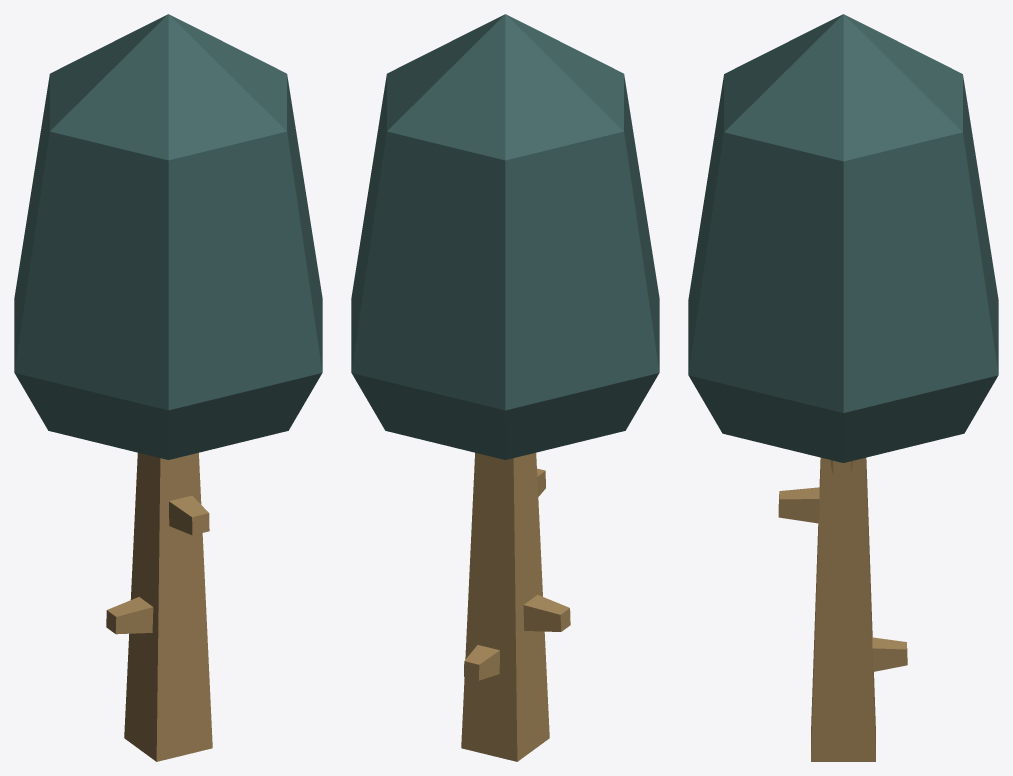
Rendered from naturePack_065.obj.
3 renders of one model, left to right at view 1: azimuth 30°, elevation 25°; view 2: azimuth 150°, elevation 25°; view 3: azimuth 270°, elevation 25°, orthographic.
Parts seen in each view (by area): view 1: Mesh1_Large_Oak_Dark_Model; view 2: Mesh1_Large_Oak_Dark_Model; view 3: Mesh1_Large_Oak_Dark_Model.
Part boxes in pixels (x1,y1,x2,y2): Mesh1_Large_Oak_Dark_Model: (14,14,322,761); Mesh1_Large_Oak_Dark_Model: (351,14,659,761); Mesh1_Large_Oak_Dark_Model: (688,14,998,761).
Size of the model in its own units: 3.02 by 6.83 by 2.62.
